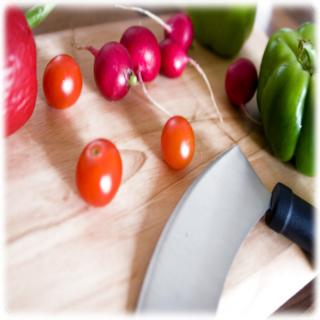tomato: (75, 140, 122, 206), (158, 108, 196, 170), (41, 52, 83, 106)
